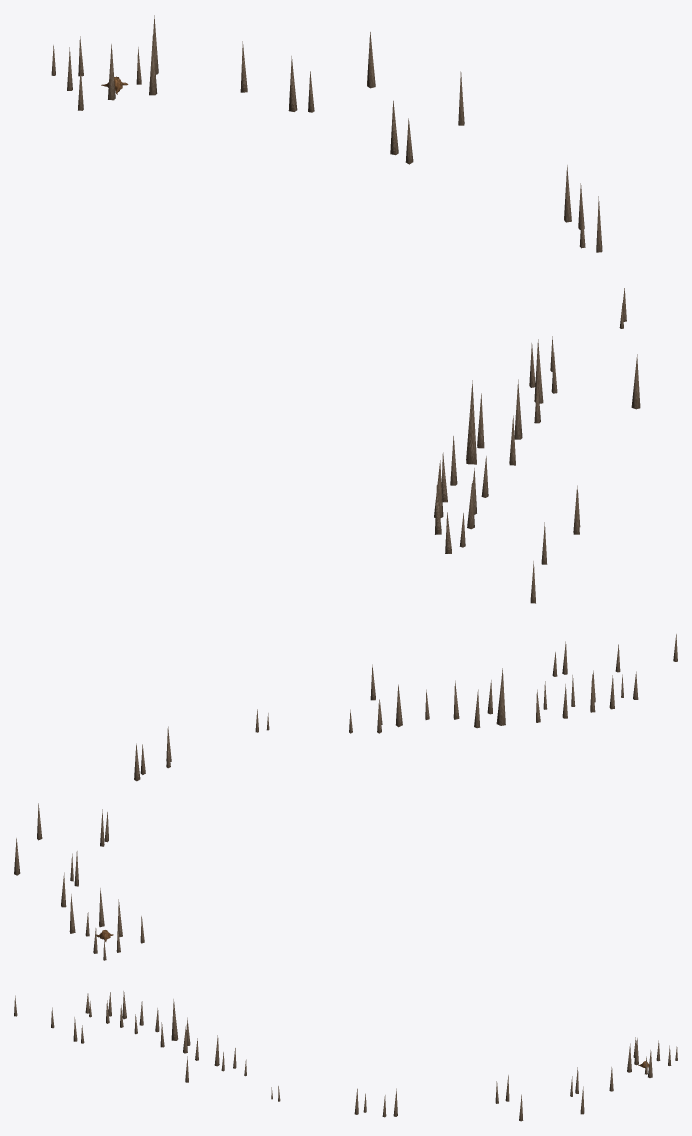
The model's file is wujian19_1.fbx.
3 renders of one model, top to bottom at view 1: azimuth 30°, elevation 25°; view 2: azimuth 150°, elevation 25°; view 3: azimuth 270°, elevation 25°, orthographic. The views are drawn at different scales.
Visible parts, largest first — view 1: wujian19_1; view 2: wujian19_1; view 3: wujian19_1.
Part boxes in pixels (bbox=[...]): wujian19_1: bbox=[51, 15, 640, 603]; wujian19_1: bbox=[14, 634, 677, 960]; wujian19_1: bbox=[14, 991, 677, 1121].
Bounding box in the file's own units: 5491 × 986 × 13938.
